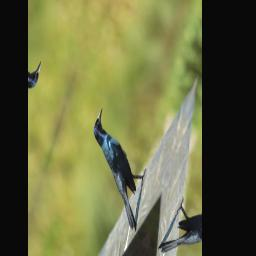Crow: (74, 105, 160, 234)
